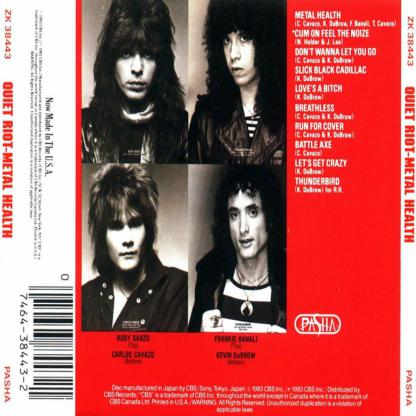face: (103, 186, 148, 273), (227, 180, 268, 257), (115, 27, 158, 100), (222, 16, 259, 87)
